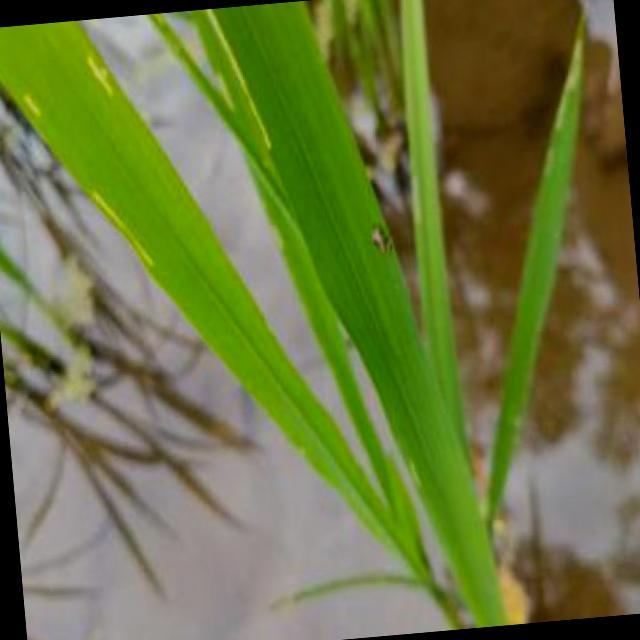ricebug: (372, 228, 388, 251)
